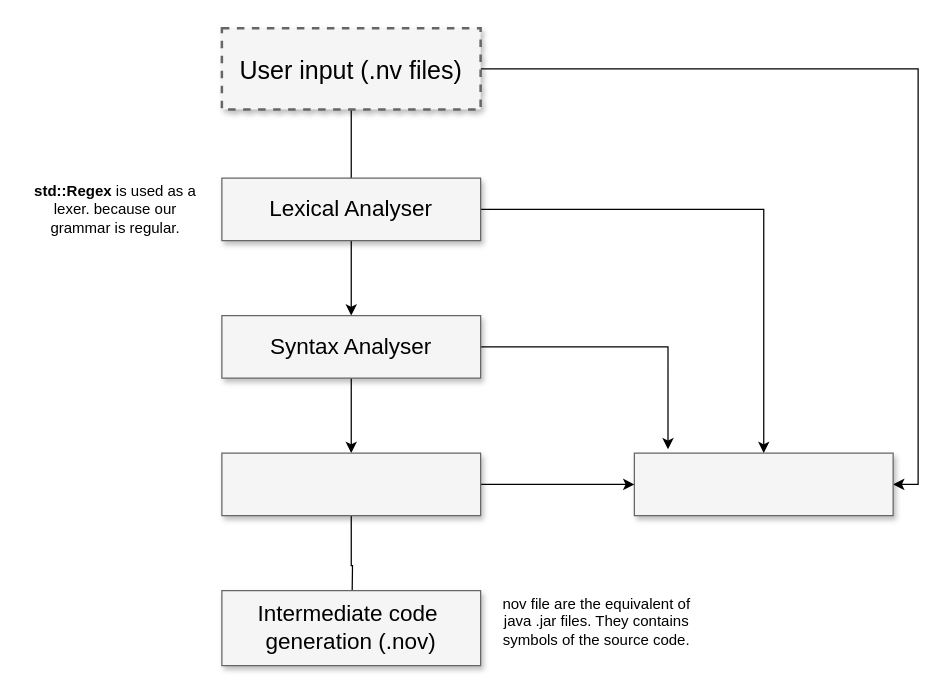
Some shapes in this 950 by 696 pixel diagram are drawn without their labels. Each missing label, with the centre of its shape:
Error Handling: the point at 764,485
Semantic Analyser: the point at 352,485
